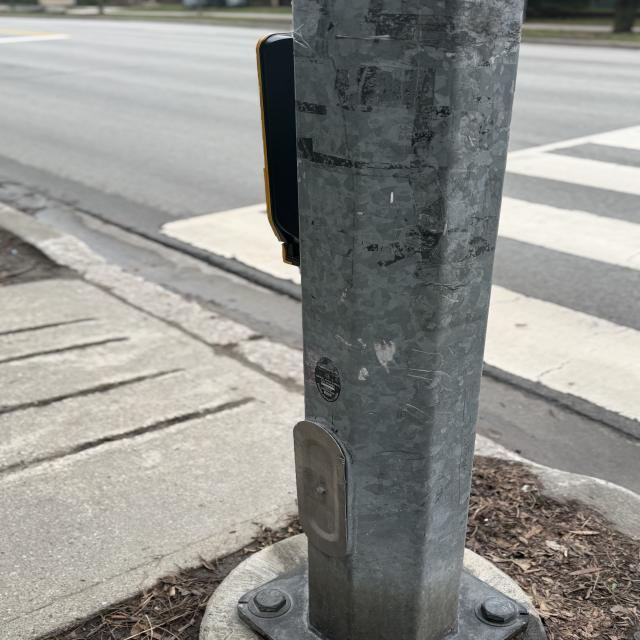Electrical Pole: (230, 3, 537, 640)
